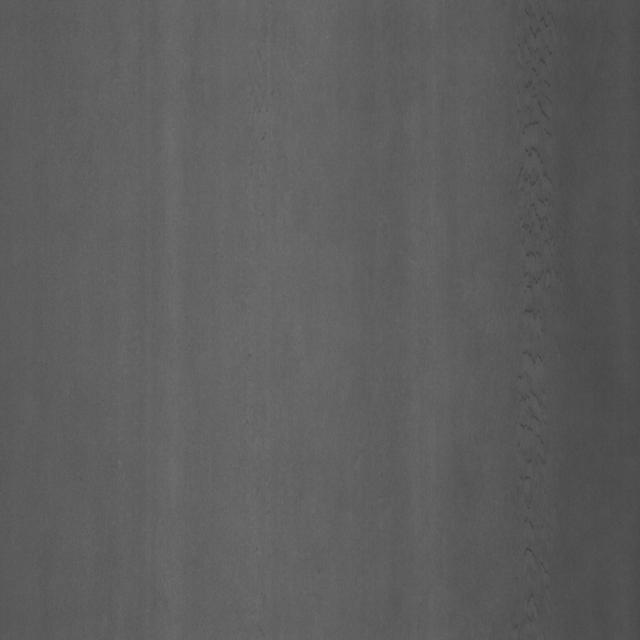inclusion: (505, 41, 575, 418)
